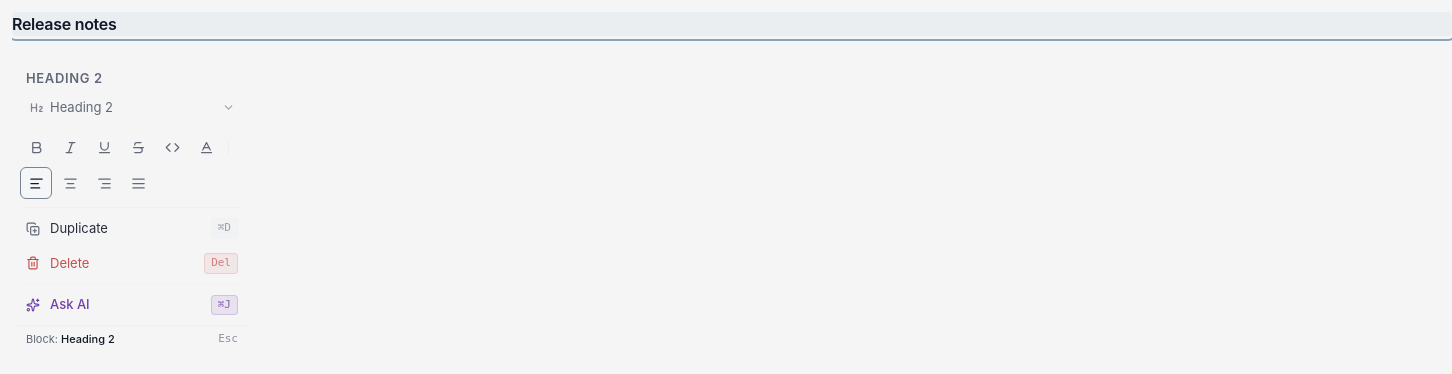
Test: EditorBlockMenu — multi-block answers over a heading › refuses when the answer is a markdown heading, which would re-level it
Expected: the element with test id "editor-block-menu" is shown, 12,60 -> 252,357
Click the button with test id "block-ai-trigger". click: [132, 305]
box: 16,289 -> 248,321
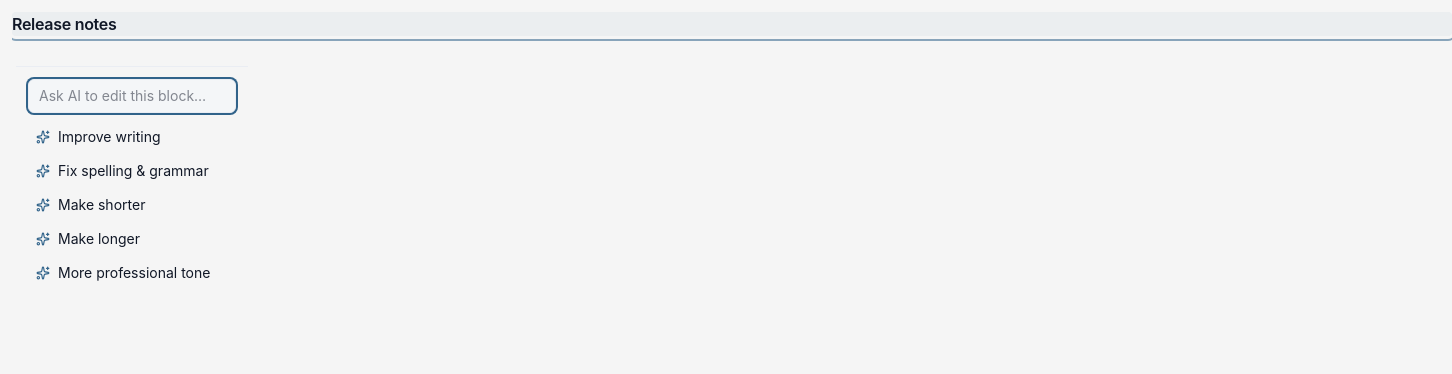
Click the button "Improve writing". click: [132, 137]
box: 28,121 -> 236,153
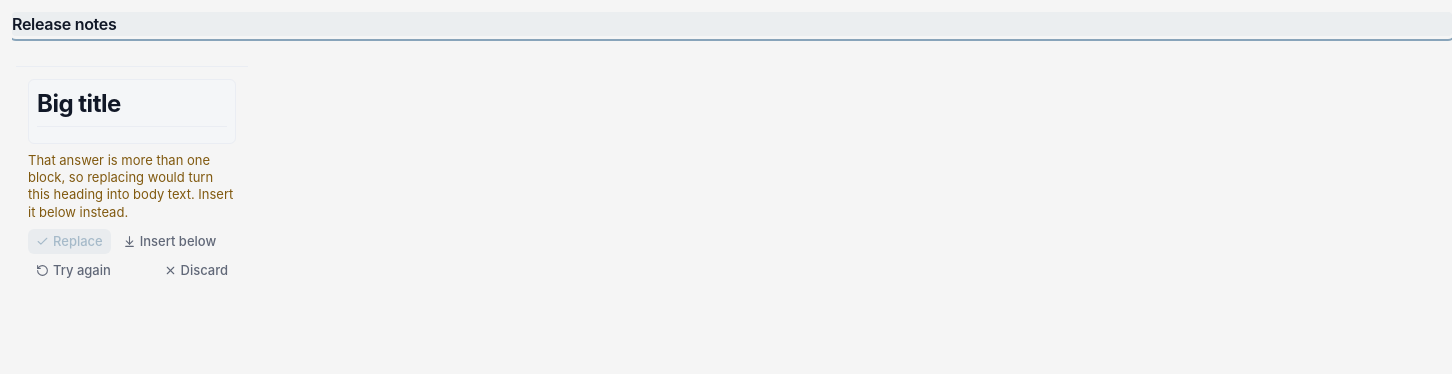
Expected: the element with test id "block-ai-preview" is shown, 28,79 -> 236,144
Expected: the message with test id "block-ai-replace-blocked" is shown, 28,152 -> 236,221
